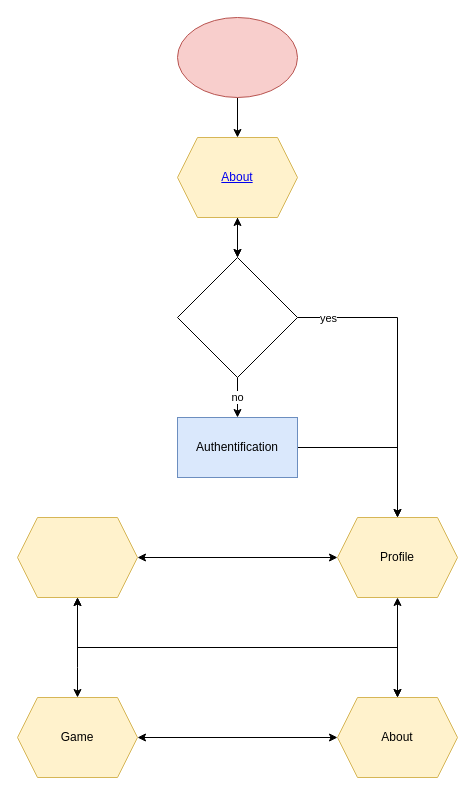
The diagram is 475 pixels wide and 795 high, and some of its shapes have lost their labels. Here are the shapes that lost their labels. From the top down, the box of each, then its label:
(176, 16, 298, 98): Start
(176, 256, 298, 378): Already authentificated?
(16, 516, 138, 598): Chat
